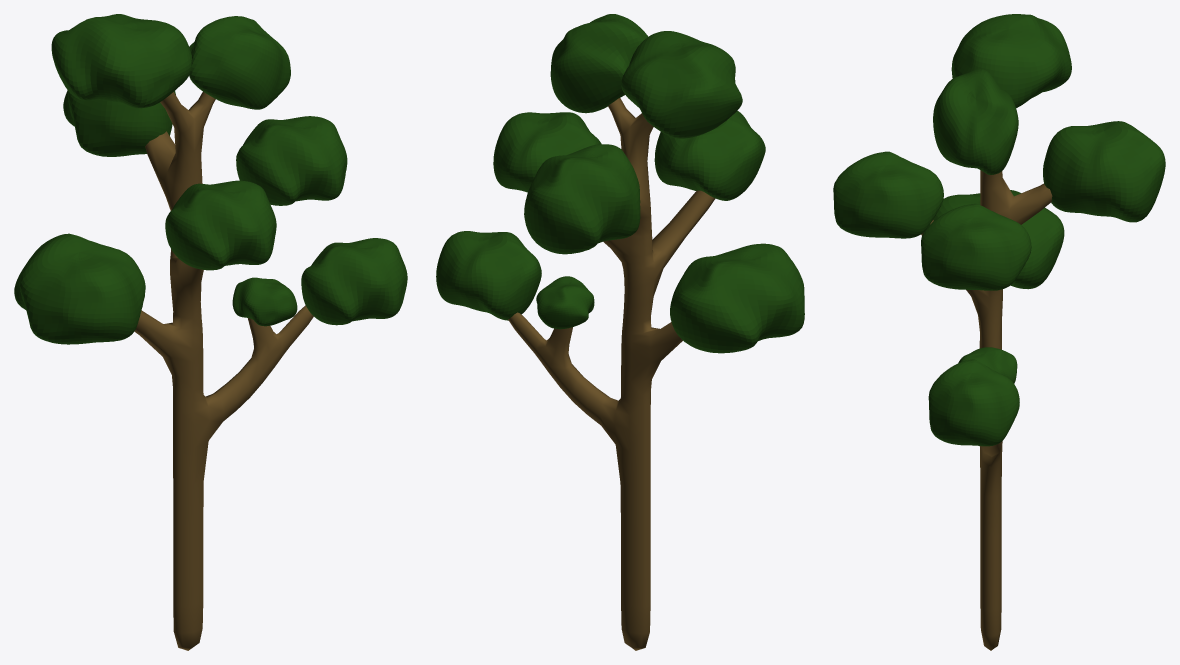
Rendered from tree3.gltf.
The picture shows the model from 3 angles, left to right: view 1: azimuth 30°, elevation 25°; view 2: azimuth 150°, elevation 25°; view 3: azimuth 270°, elevation 25°; orthographic projection. The views are drawn at different scales.
Visible parts, largest first — view 1: Sphere.006; view 2: Sphere.006; view 3: Sphere.006.
Boxes of the visible parts, left/top/right/bottom form: Sphere.006: left=14, top=14, right=407, bottom=650; Sphere.006: left=436, top=14, right=804, bottom=650; Sphere.006: left=833, top=14, right=1165, bottom=650.
Size of the model in its own units: 6.71 by 11.05 by 5.54.
